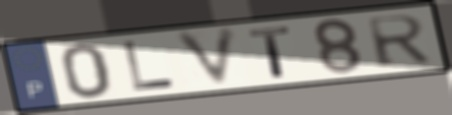0: (59, 42, 115, 100)
8: (312, 17, 364, 77)
L: (121, 40, 179, 93)
R: (363, 13, 435, 70)
T: (245, 24, 295, 80)
V: (172, 24, 241, 91)
